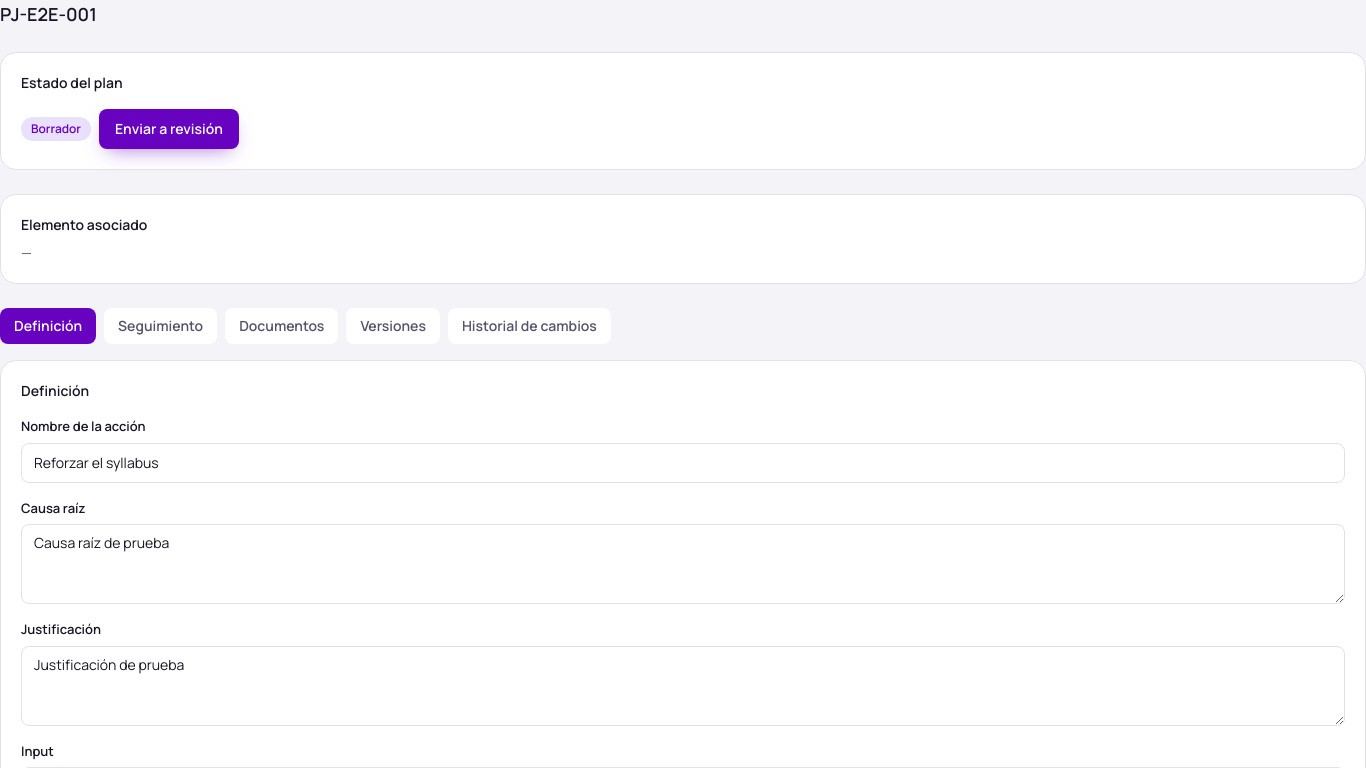
Test: RF-CH-043 y RF-CH-044 — el detalle con el ciclo propio › el seguimiento en Borrador es editable: false
Click the tab "Seguimiento" at x=161, y=326, box [104, 308, 217, 344]
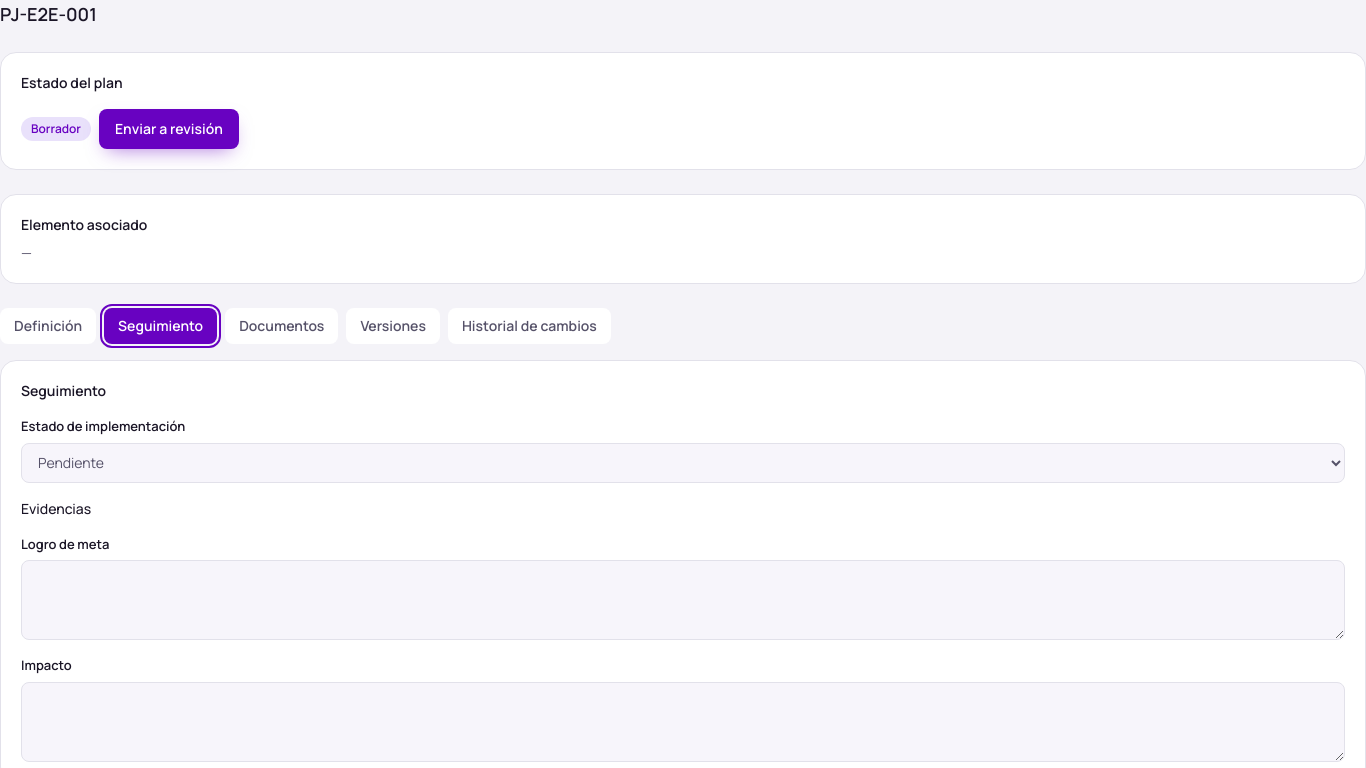
Result: the dropdown labelled "Estado de implementación" is disabled at [21, 442, 1345, 482]
